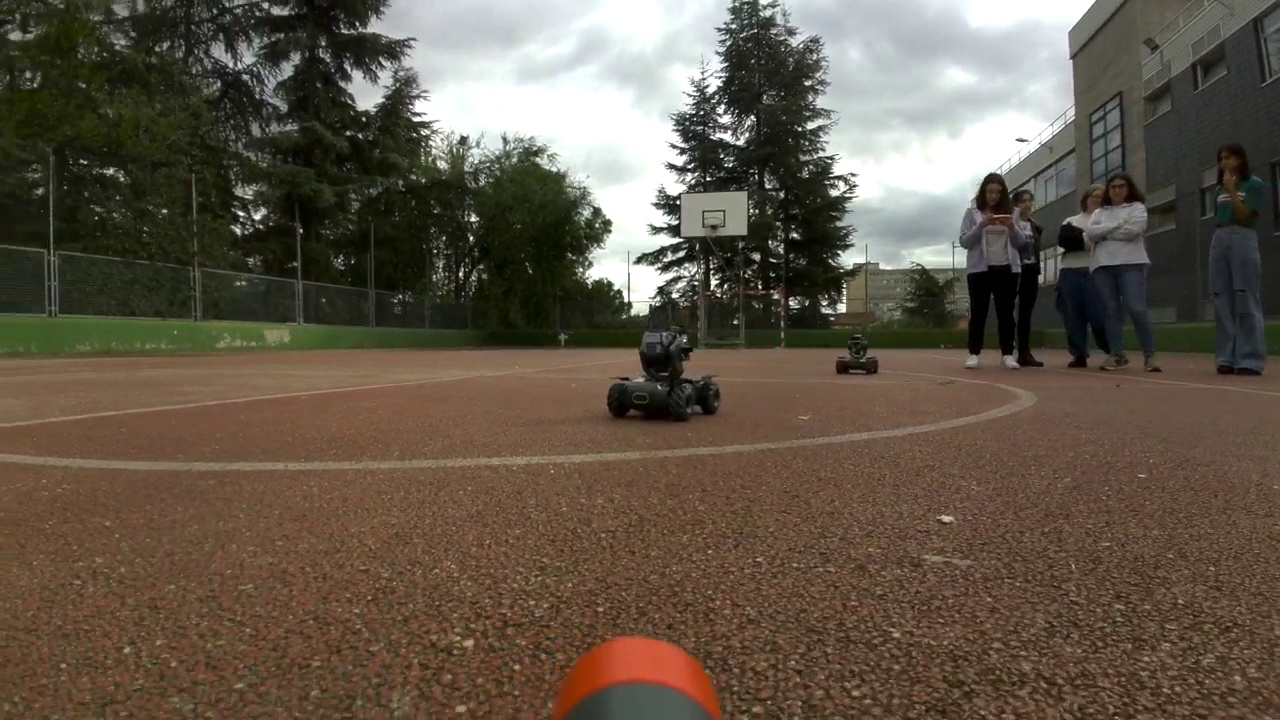robot: (607, 326, 721, 422), (838, 336, 874, 372)
